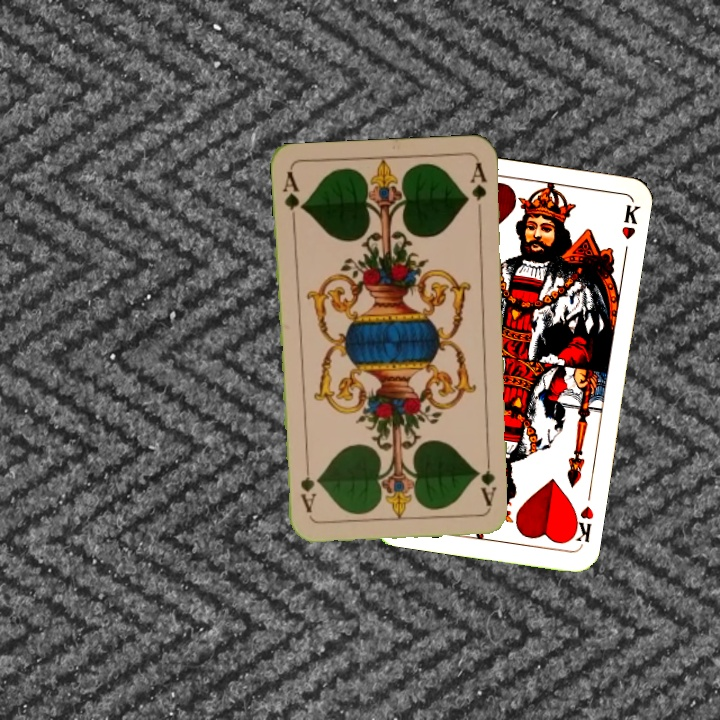GA: (278, 168, 306, 227), (478, 449, 499, 508)
HK: (565, 502, 596, 545)
